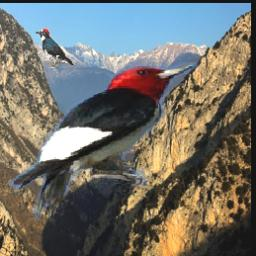Woodpecker: (7, 63, 200, 222), (36, 29, 75, 69)
